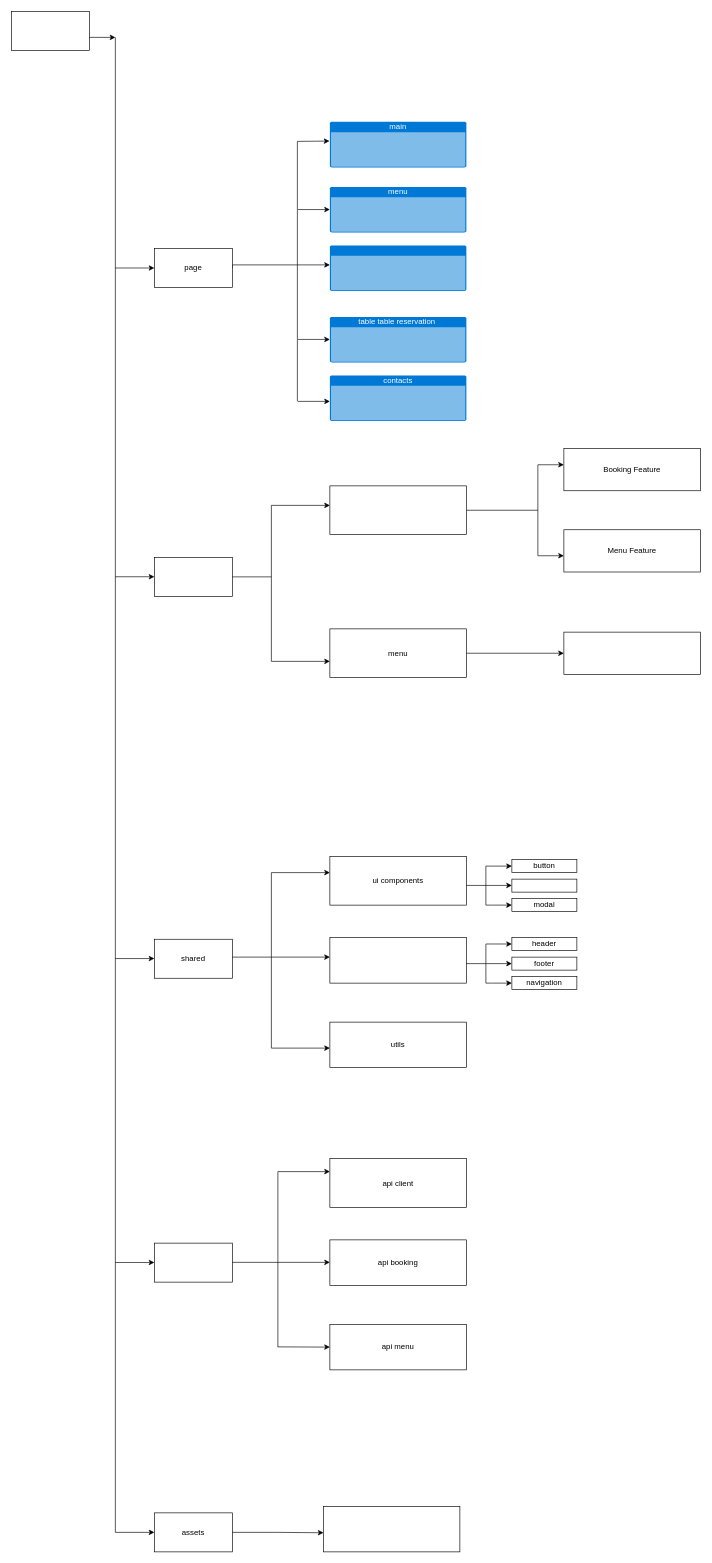
This 712x1563 diagram has some shape labels left out. The centre of each missing label's shape, as x and y in pixels:
"api" belongs at point (193, 1262).
"booking" belongs at point (397, 510).
"business logic" belongs at point (193, 576).
"front" belongs at point (50, 30).
"image, style" belongs at point (391, 1529).
"information" belongs at point (398, 268).
"input" belongs at point (544, 885).
"layout" belongs at point (397, 960).
"menu list" belongs at point (631, 652).
